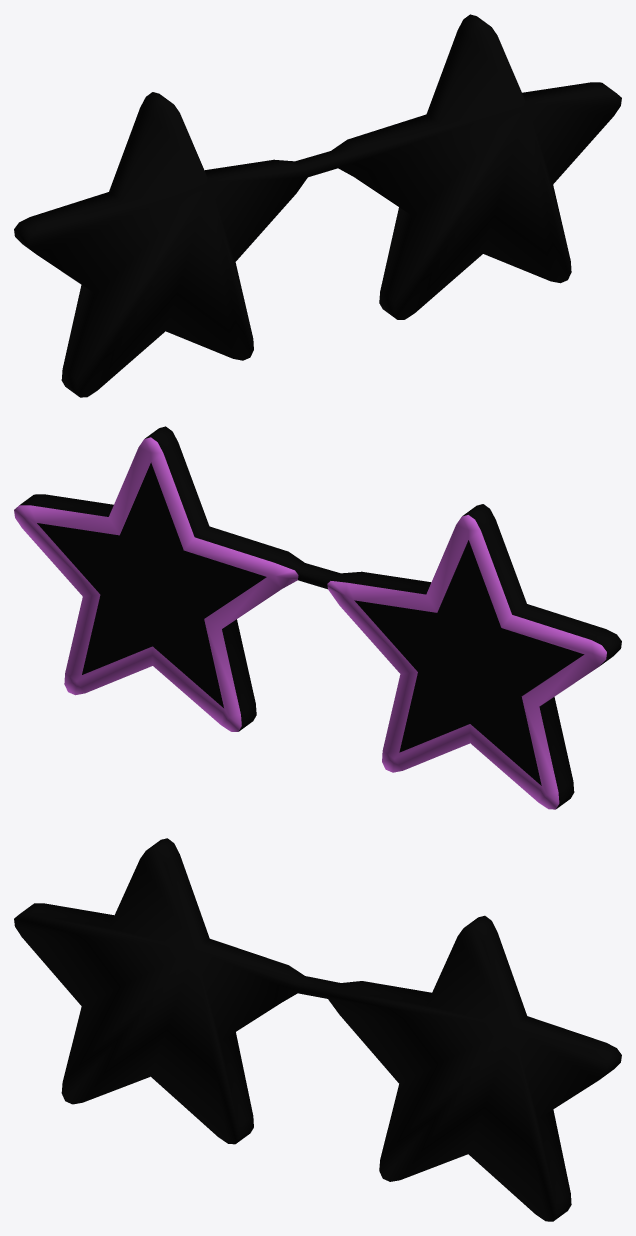
File: ActorGhost_Glasses.fbx
The picture shows the model from 3 angles, top to bottom: view 1: azimuth 30°, elevation 25°; view 2: azimuth 150°, elevation 25°; view 3: azimuth 330°, elevation 25°; orthographic projection.
Visible parts, largest first — view 1: StarGlasses; view 2: StarGlasses; view 3: StarGlasses.
Boxes of the visible parts, x1,y1,x2,y2 form: StarGlasses: [14, 14, 621, 397]; StarGlasses: [14, 426, 621, 809]; StarGlasses: [14, 838, 621, 1221].
Bounding box in the file's own units: 116 × 51.81 × 5.06.
